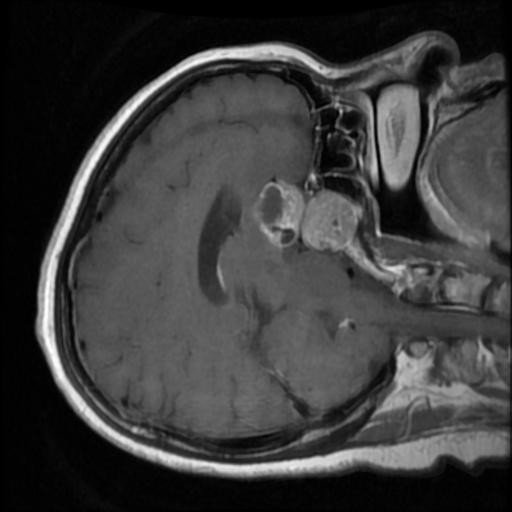pituitary tumour: (252, 182, 356, 251)
